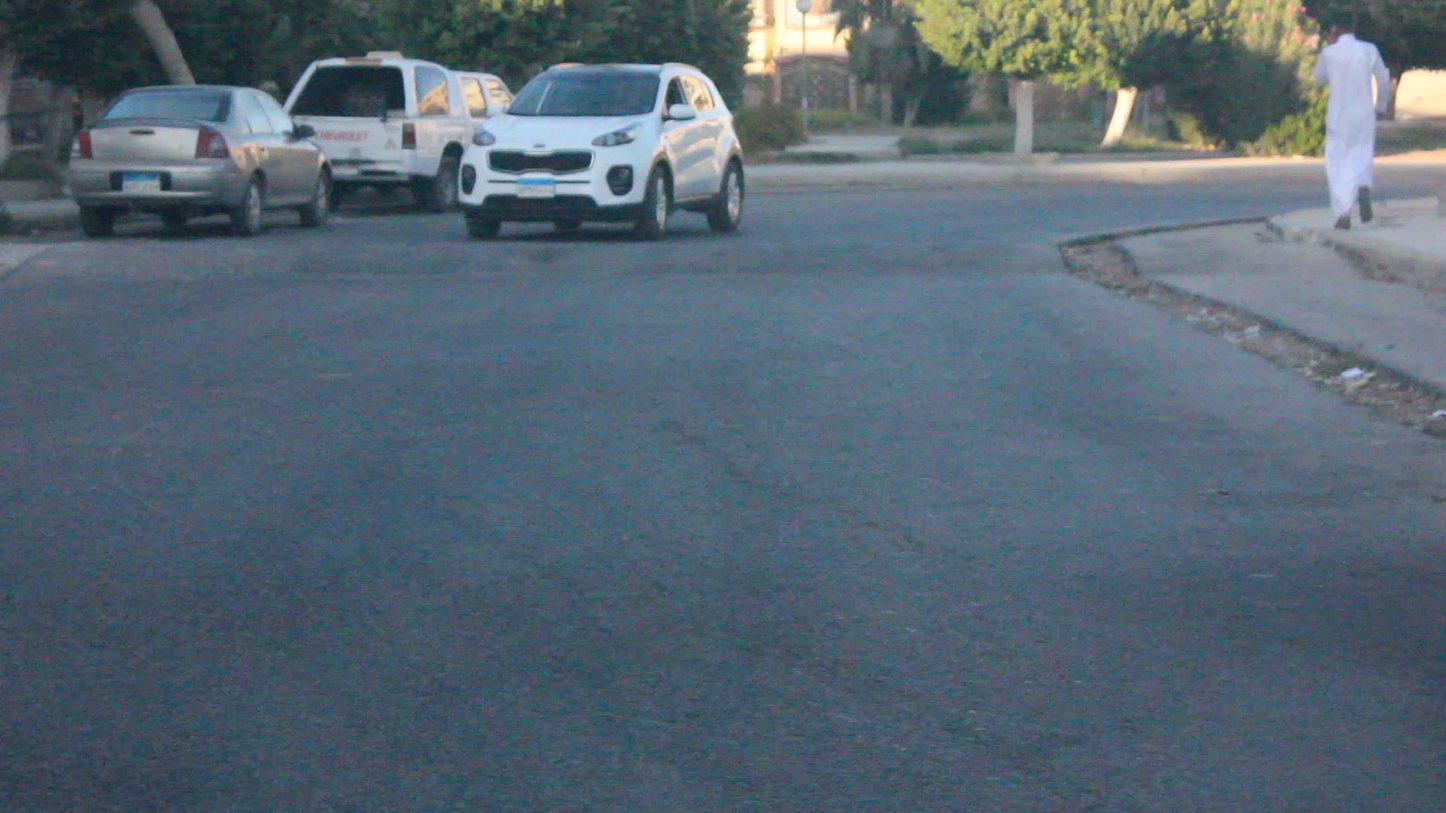Bump: (17, 237, 1113, 280)
